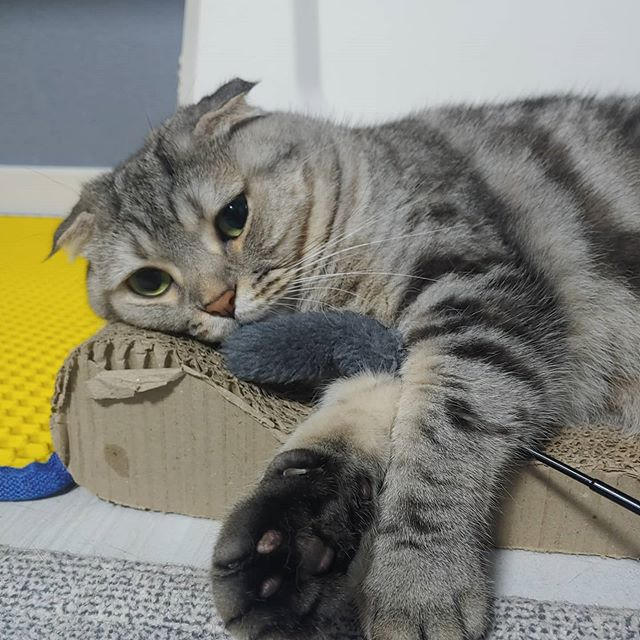cat: (51, 84, 331, 364)
